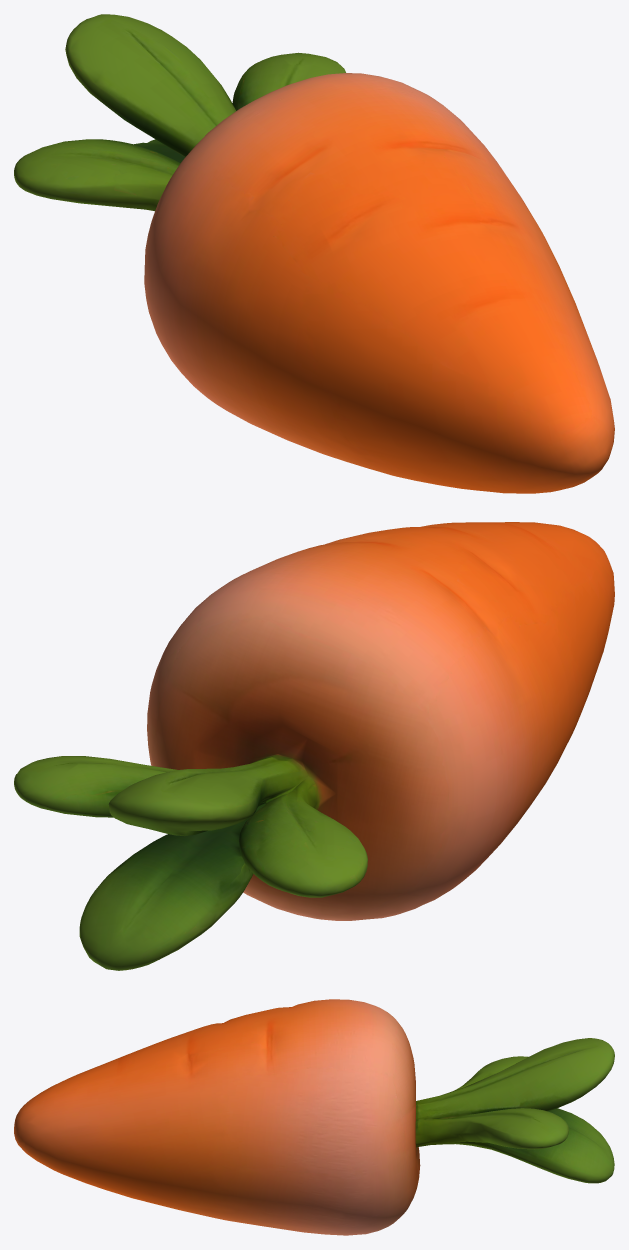
File: basket-carrot.glb
3 renders of one model, top to bottom at view 1: azimuth 30°, elevation 25°; view 2: azimuth 150°, elevation 25°; view 3: azimuth 270°, elevation 25°, orthographic. The views are drawn at different scales.
Visible parts, largest first — view 1: node_0; view 2: node_0; view 3: node_0.
Boxes of the visible parts, <box> form: node_0: <box>14,14,614,493</box>; node_0: <box>14,522,614,970</box>; node_0: <box>14,999,614,1235</box>.
Bounding box in the file's own units: 0.4868 × 0.4538 × 1.17.
Materials: 1 (1 with a texture image).
